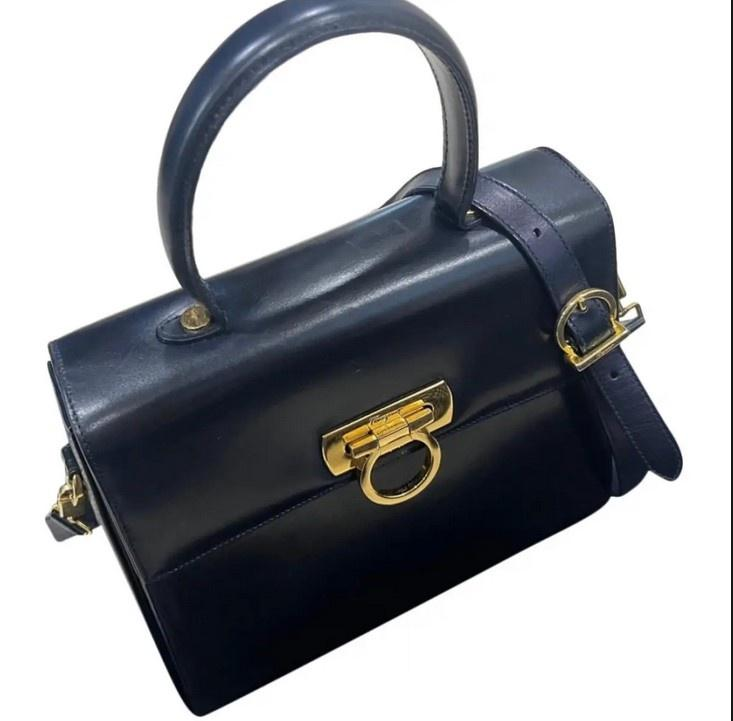FERRAGAMO: (319, 385, 470, 519)
